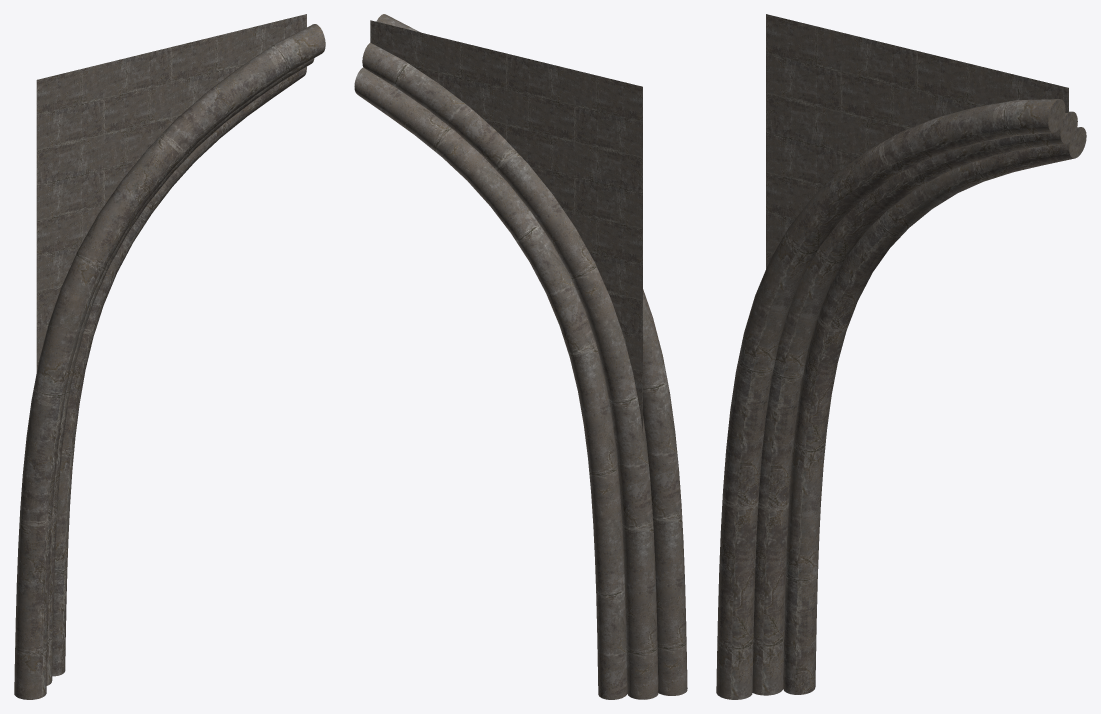
File: ArcTripple8x16.fbx
The picture shows the model from 3 angles, left to right: view 1: azimuth 30°, elevation 25°; view 2: azimuth 150°, elevation 25°; view 3: azimuth 330°, elevation 25°; orthographic projection. The views are drawn at different scales.
Parts seen in each view (by area): view 1: Trim_Arc_tripple_8x16; view 2: Trim_Arc_tripple_8x16; view 3: Trim_Arc_tripple_8x16.
Boxes of the visible parts, x1=… form: Trim_Arc_tripple_8x16: x1=14, y1=14, x2=325, y2=699; Trim_Arc_tripple_8x16: x1=354, y1=14, x2=687, y2=699; Trim_Arc_tripple_8x16: x1=716, y1=14, x2=1086, y2=699.
Size of the model in its own units: 893 by 1700 by 176.
